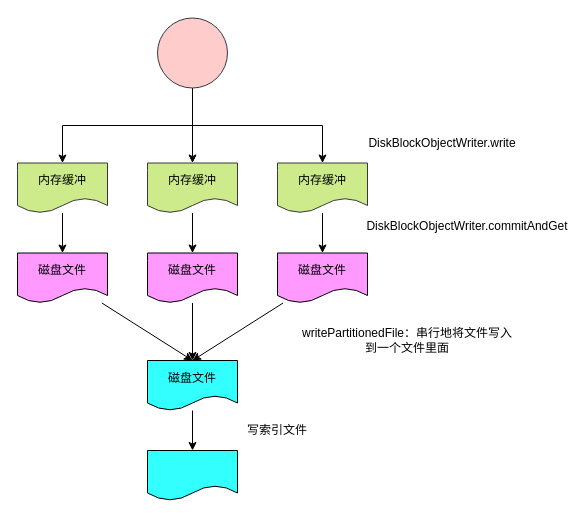
The diagram is 585 pixels wide and 518 high, and some of its shapes have lost their labels. The centre of each missing label's shape, as x and y in pixels:
task: pixel 192 52
索引文件: pixel 192 475
